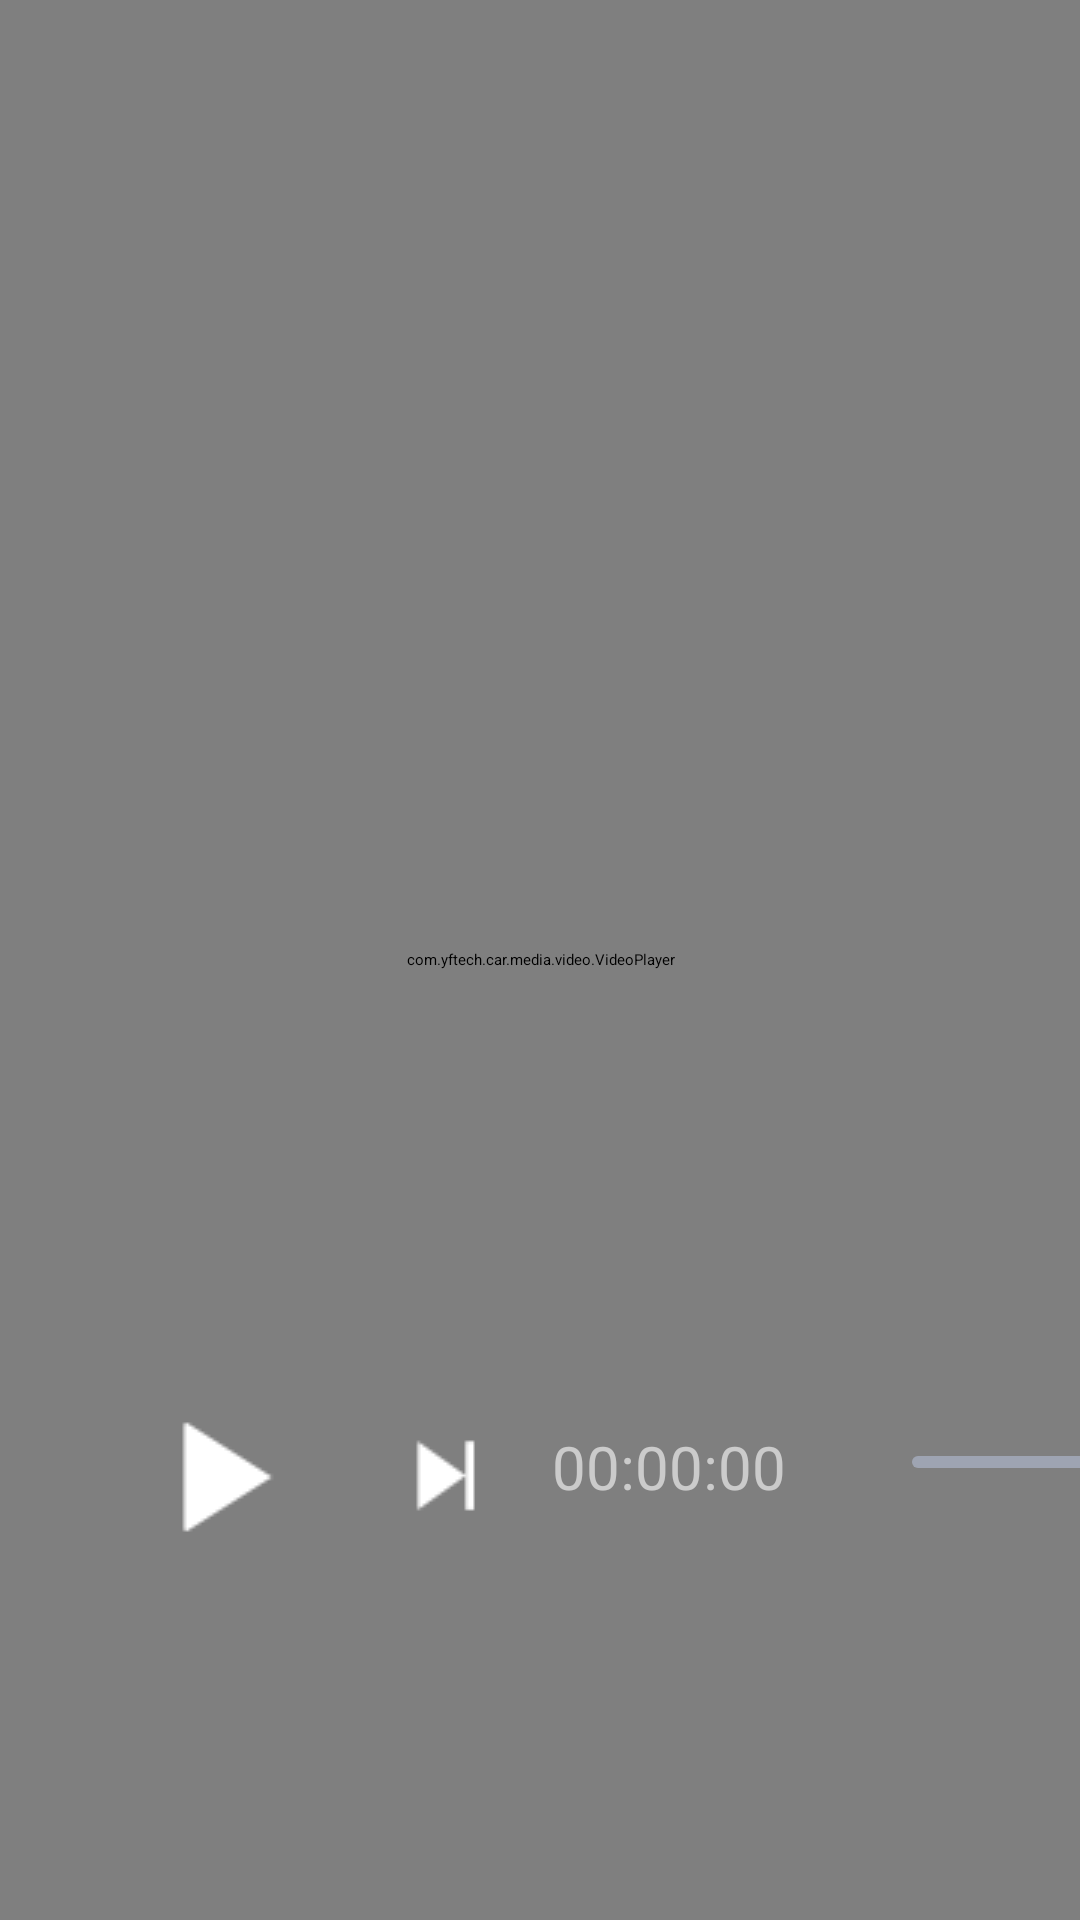

Icon click points for this 1080px x 1920px phone screenshot, format (x,y):
imgvideo next: (445,1475)
video play state: (226,1477)
